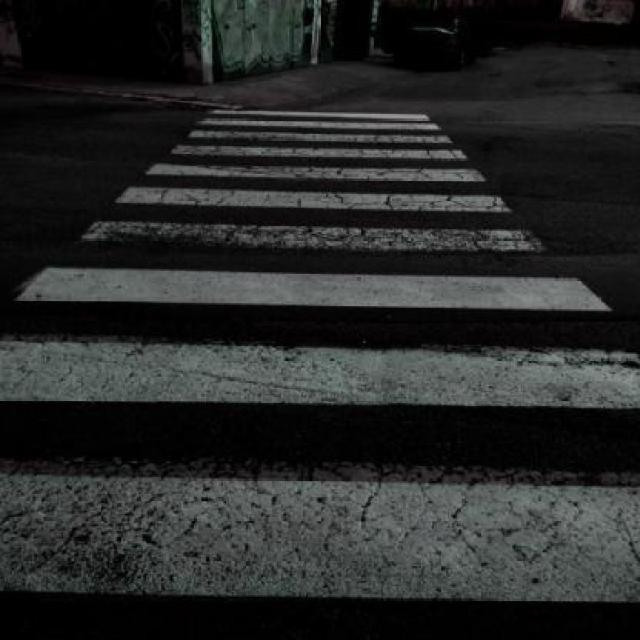crosswalk: (1, 109, 640, 604)
